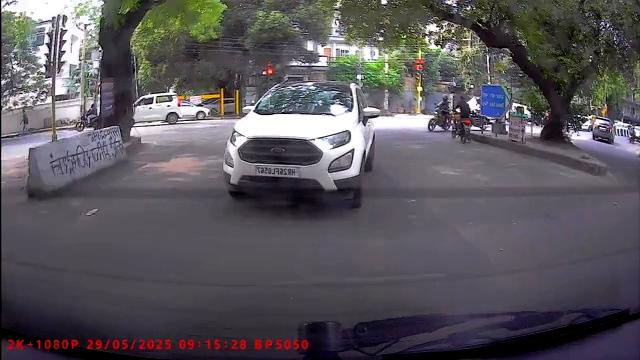motorcycle_with_helmet: (430, 94, 451, 132)
